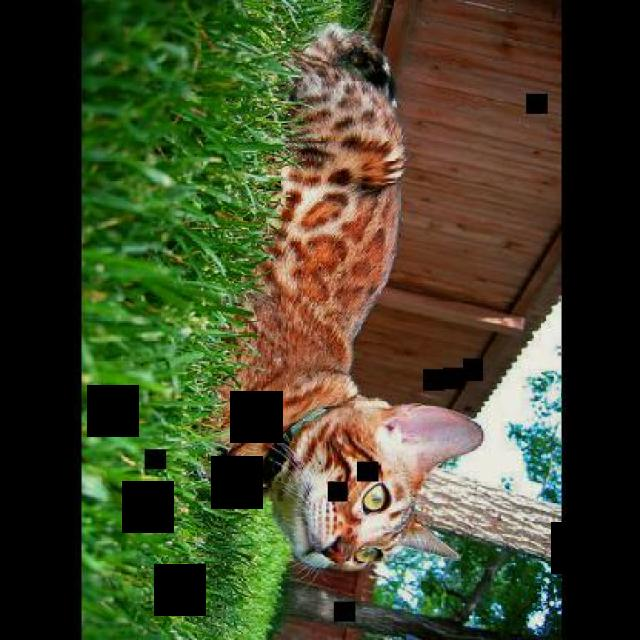unauthorized: (196, 20, 484, 597)
